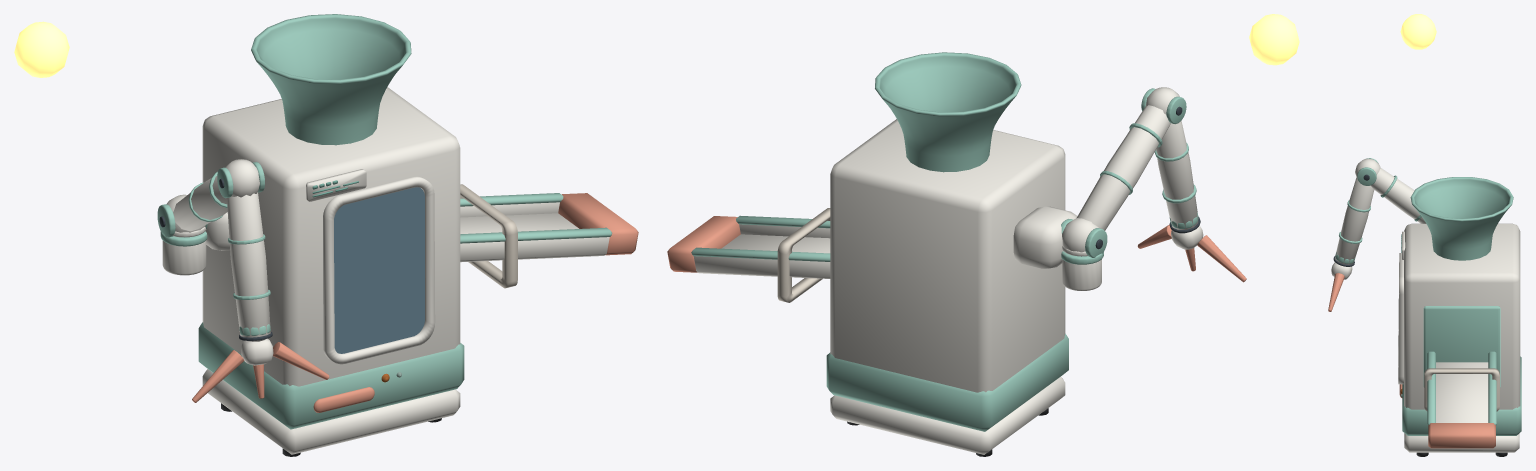
Rendered from hero_v2.glb.
The picture shows the model from 3 angles, left to right: view 1: azimuth 30°, elevation 25°; view 2: azimuth 150°, elevation 25°; view 3: azimuth 270°, elevation 25°; orthographic projection. The views are drawn at different scales.
Parts seen in each view (by area): view 1: Machine_Body, Machine_Hopper, Machine_WindowGlass, P1_BaseBand, Machine_Base, Machine_WindowFrame, Machine_Chute, Arm_Forearm, P1_ChuteRail, Idea, P1_OutletCollar, Arm_UpperArm (+10 smaller); view 2: Machine_Body, Machine_Hopper, P1_BaseBand, Machine_Base, Machine_Chute, Arm_UpperArm, P1_ShoulderBay, Arm_Forearm, P1_ChuteRail, Idea, P1_OutletCollar, P1_OutletRailL (+3 smaller); view 3: Machine_Body, Machine_Hopper, V2_SidePanel, Machine_Chute, P1_ChuteRail, Arm_Forearm, P1_BaseBand, Machine_Base, Arm_UpperArm, Idea, P1_OutletCollar, Machine_WindowFrame (+6 smaller).
Part boxes in pixels (box(x1,y1,x2,y2)): Machine_Body: box(202, 87, 460, 386); Machine_Hopper: box(251, 14, 411, 145); Machine_WindowGlass: box(334, 187, 424, 353); P1_BaseBand: box(198, 322, 464, 429); Machine_Base: box(202, 369, 460, 454); Machine_WindowFrame: box(323, 176, 435, 364); Machine_Chute: box(460, 202, 609, 262); Arm_Forearm: box(227, 192, 270, 341); P1_ChuteRail: box(558, 193, 638, 255); Idea: box(14, 21, 69, 77); P1_OutletCollar: box(460, 184, 517, 288); Arm_UpperArm: box(173, 176, 227, 231); Machine_Body: box(830, 119, 1065, 392); Machine_Hopper: box(875, 52, 1021, 172); P1_BaseBand: box(826, 334, 1068, 431); Machine_Base: box(830, 376, 1065, 454); Machine_Chute: box(693, 224, 830, 278); Arm_UpperArm: box(1076, 105, 1170, 230); P1_ShoulderBay: box(1013, 206, 1077, 268); Arm_Forearm: box(1156, 121, 1198, 229); P1_ChuteRail: box(667, 216, 740, 272); Idea: box(1249, 14, 1299, 65); P1_OutletCollar: box(777, 208, 830, 302); P1_OutletRailL: box(691, 247, 830, 261); Machine_Body: box(1404, 223, 1520, 409); Machine_Hopper: box(1410, 177, 1513, 260); V2_SidePanel: box(1423, 306, 1500, 387); Machine_Chute: box(1436, 362, 1488, 422); P1_ChuteRail: box(1428, 423, 1495, 448); Arm_Forearm: box(1335, 177, 1374, 264); P1_BaseBand: box(1402, 356, 1521, 435); Machine_Base: box(1404, 433, 1519, 452); Arm_UpperArm: box(1371, 168, 1425, 223); Idea: box(1400, 14, 1436, 49); P1_OutletCollar: box(1424, 368, 1499, 411); Machine_WindowFrame: box(1398, 253, 1403, 384).
Size of the model in its own units: 6.42 by 4.8 by 2.67.
